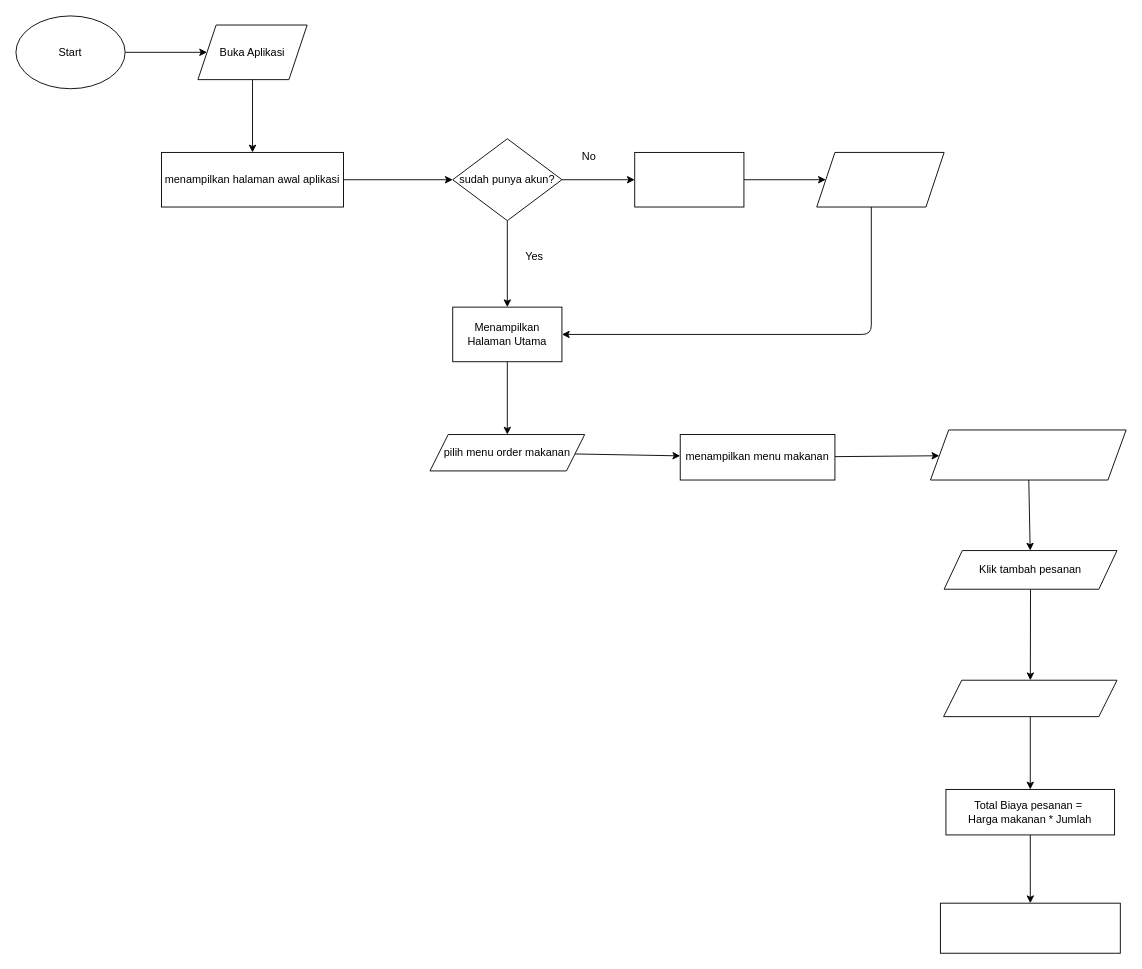
Some shapes in this 1142 by 969 pixel diagram are drawn without their labels. Here are the shapes that lost their labels. From the top down, the centre of each, then its label:
(x=689, y=179): Menampilkan Page login
(x=880, y=179): Input Username,pw
(x=1028, y=454): cari makanan yang ingin dipesan
(x=1030, y=698): Masukkan Jumlah Pesanan
(x=1029, y=927): Menampilkan Total Biaya Pesanan
